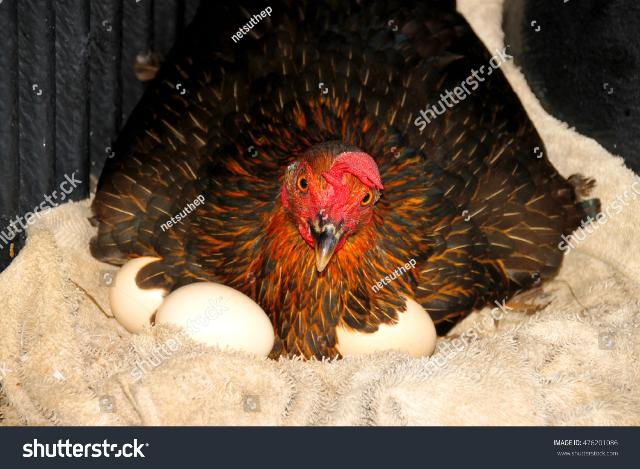Chicken: (91, 2, 585, 361)
